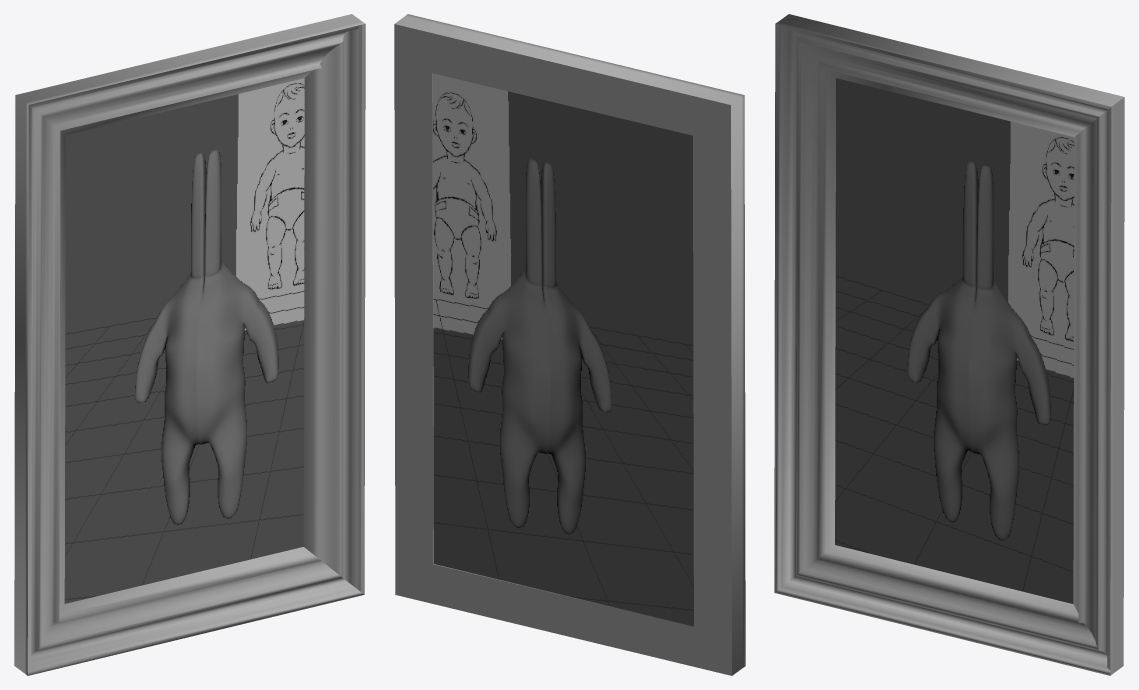
Rendered from RotChicken 1.fbx.
3 renders of one model, left to right at view 1: azimuth 30°, elevation 25°; view 2: azimuth 150°, elevation 25°; view 3: azimuth 330°, elevation 25°, orthographic.
Parts seen in each view (by area): view 1: pasted__pPlane2, pasted__pasted__loftedSurface4; view 2: pasted__pPlane2, pasted__pasted__loftedSurface4; view 3: pasted__pPlane2, pasted__pasted__loftedSurface4.
Boxes of the visible parts, x1,y1,x2,y2 form: pasted__pPlane2: [64, 78, 304, 603]; pasted__pasted__loftedSurface4: [14, 14, 365, 675]; pasted__pPlane2: [433, 73, 693, 626]; pasted__pasted__loftedSurface4: [394, 14, 745, 675]; pasted__pPlane2: [835, 78, 1074, 603]; pasted__pasted__loftedSurface4: [774, 14, 1124, 675].
Bounding box in the file's own units: 20.51 × 33.17 × 1.42.
